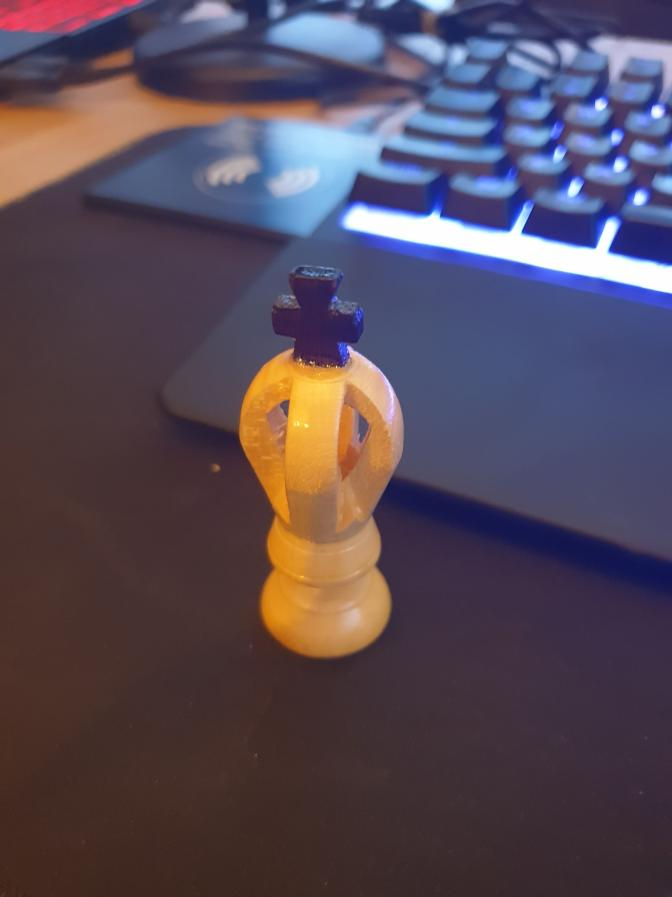wking: (238, 265, 406, 661)
